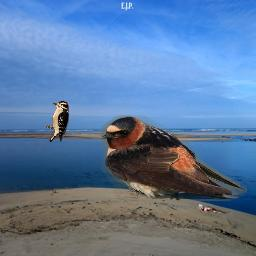Swallow: (101, 115, 247, 201)
Woodpecker: (45, 100, 69, 142)
